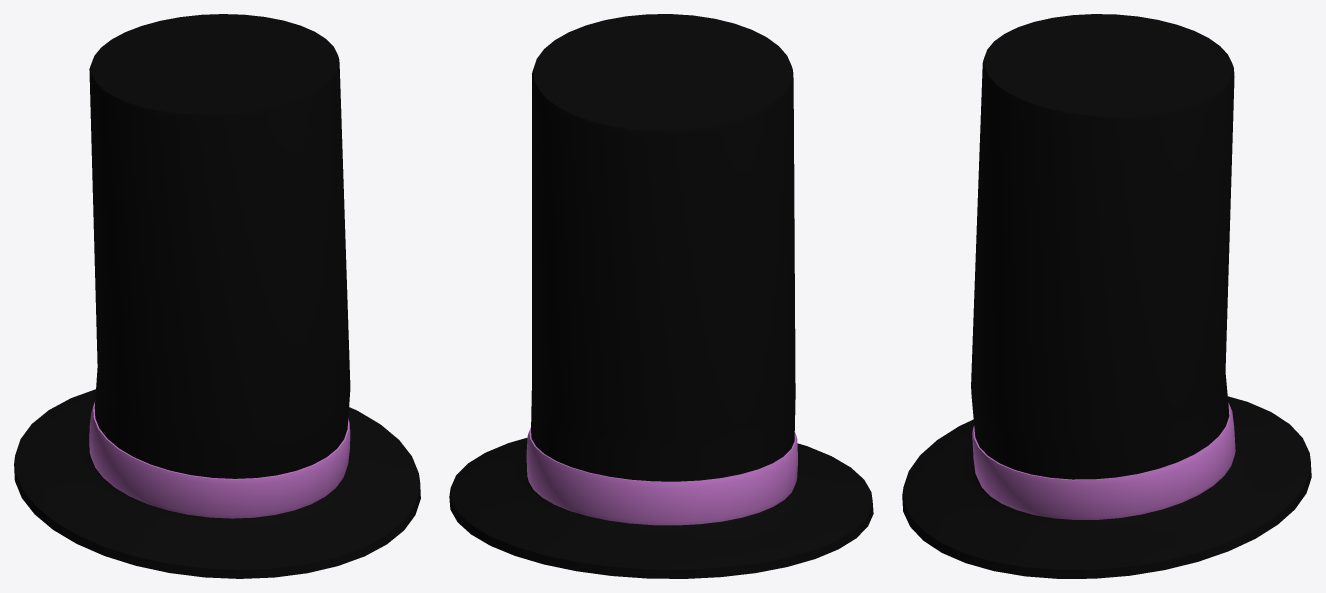
The picture shows the model from 3 angles, left to right: view 1: azimuth 30°, elevation 25°; view 2: azimuth 150°, elevation 25°; view 3: azimuth 270°, elevation 25°; orthographic projection. The views are drawn at different scales.
Parts seen in each view (by area): view 1: 344; view 2: 344; view 3: 344.
Boxes of the visible parts, x1,y1,x2,y2 form: 344: [14, 14, 420, 578]; 344: [449, 14, 873, 578]; 344: [902, 14, 1311, 578].
Bounding box in the file's own units: 22.74 × 22.68 × 26.89.
